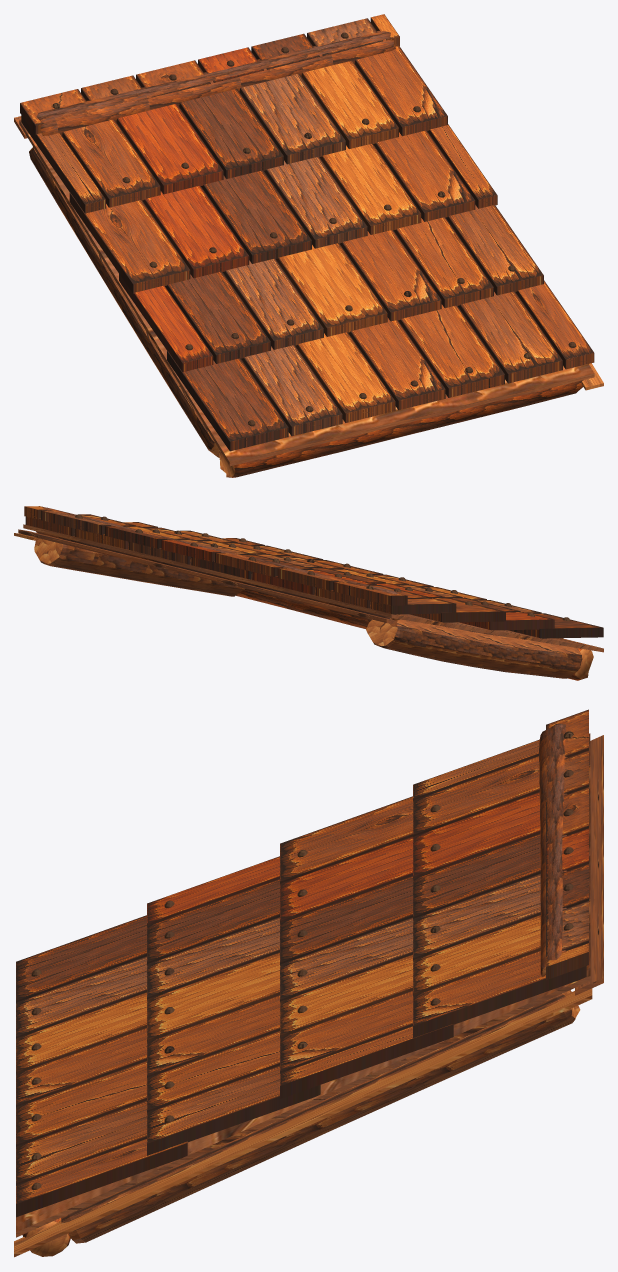
File: roof_26__plank_root.glb
The picture shows the model from 3 angles, top to bottom: view 1: azimuth 30°, elevation 25°; view 2: azimuth 150°, elevation 25°; view 3: azimuth 270°, elevation 25°; orthographic projection. The views are drawn at different scales.
Parts seen in each view (by area): view 1: model; view 2: model; view 3: model.
Part boxes in pixels (box(x1,y1,x2,y2)): model: box(14, 14, 603, 477); model: box(14, 506, 603, 680); model: box(14, 709, 603, 1257).
Size of the model in its own units: 2.03 by 1.2 by 2.04.
Materials: 21 (21 with a texture image).
